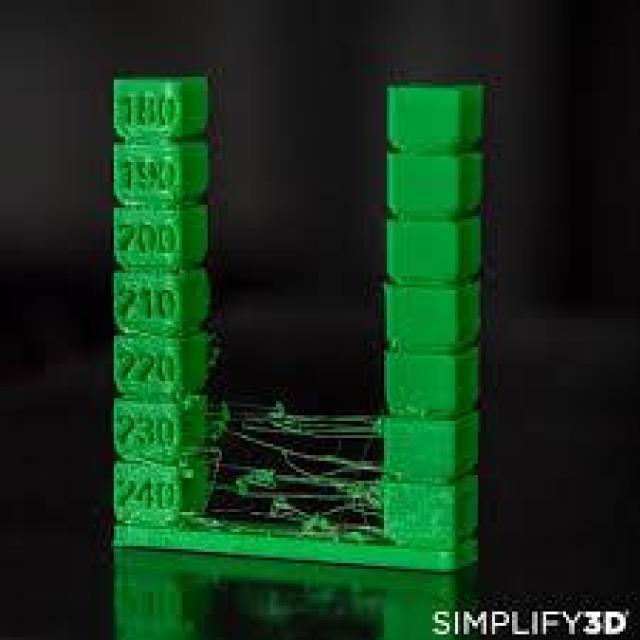Stringing: (210, 384, 378, 519)
